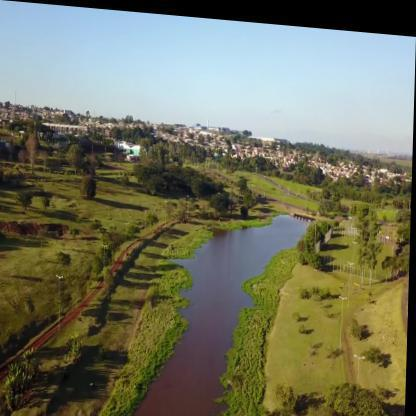agua: (174, 241, 222, 415), (222, 215, 263, 302)
